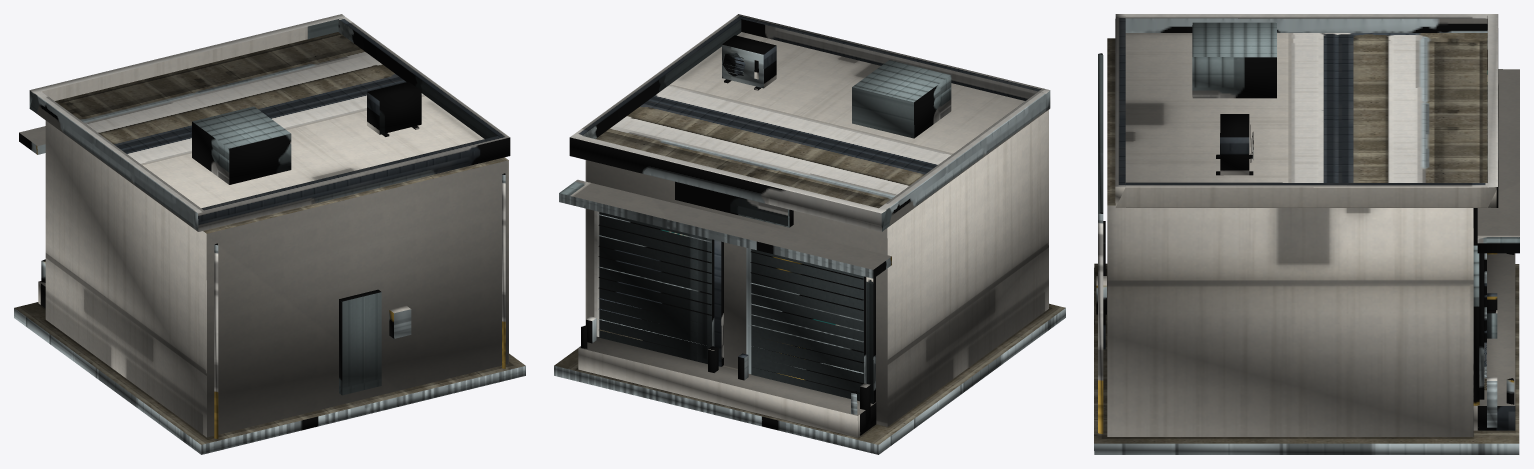
Rendered from factory_002.lod1.obj.
3 renders of one model, left to right at view 1: azimuth 30°, elevation 25°; view 2: azimuth 150°, elevation 25°; view 3: azimuth 270°, elevation 25°, orthographic. The views are drawn at different scales.
Parts seen in each view (by area): view 1: factory_002; view 2: factory_002; view 3: factory_002.
Part boxes in pixels (x1=…): factory_002: x1=14, y1=14, x2=525, y2=454; factory_002: x1=554, y1=14, x2=1065, y2=454; factory_002: x1=1094, y1=14, x2=1519, y2=454.
Size of the model in its own units: 6.5 by 4.92 by 6.51.
Materials: 1 (1 with a texture image).
